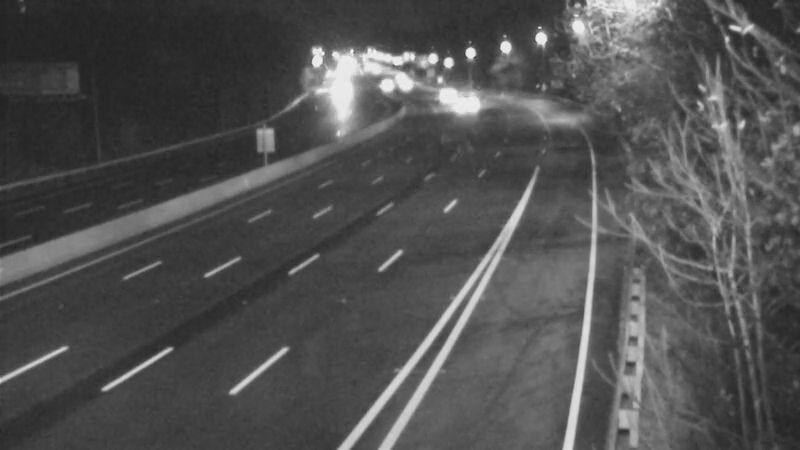vehicle: (379, 61, 429, 111), (356, 60, 406, 110), (419, 70, 469, 120), (437, 78, 487, 128), (309, 70, 359, 120)
